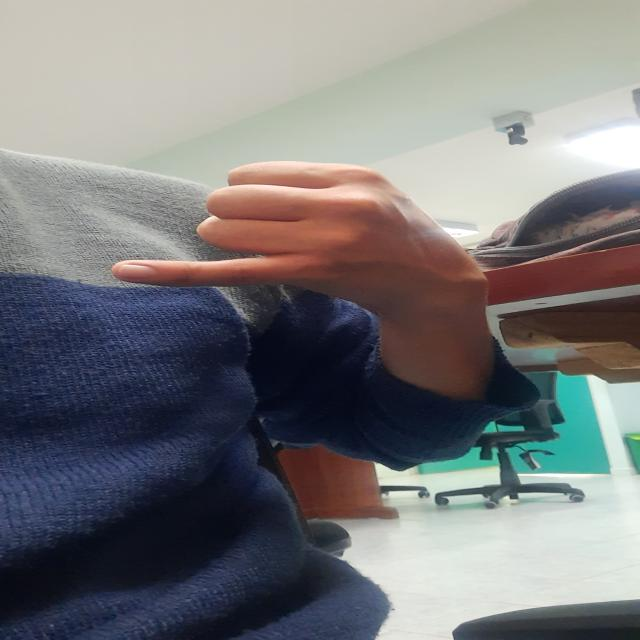J: (94, 157, 450, 292)
